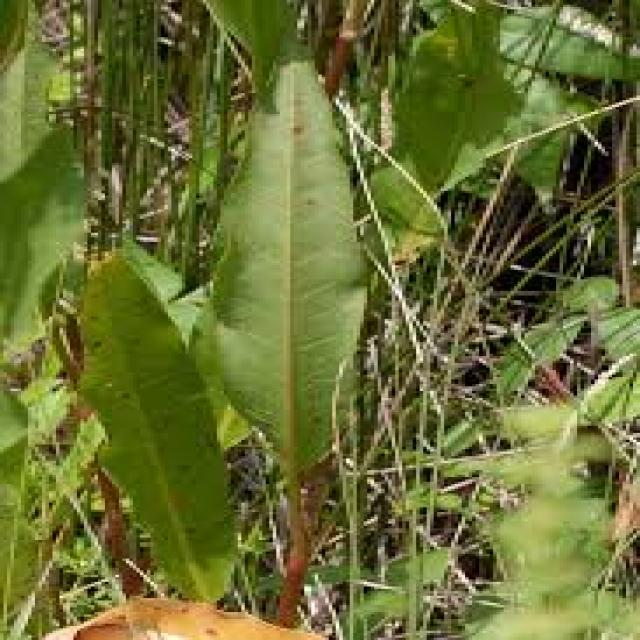organic waste: (0, 32, 507, 640)
